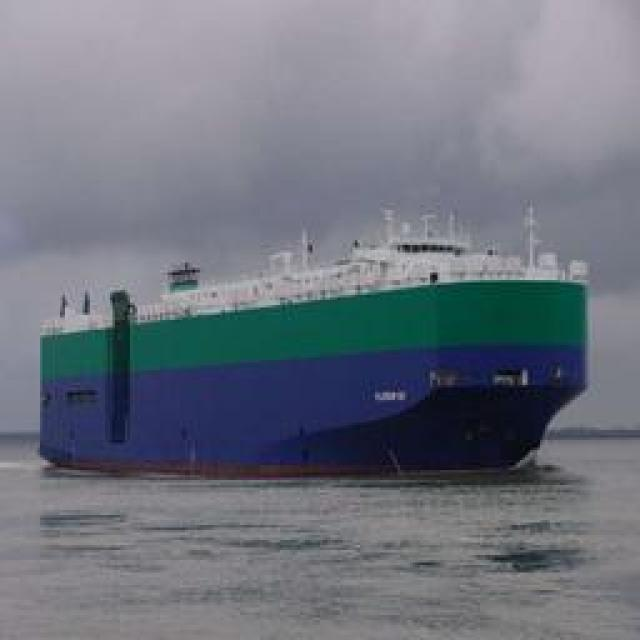CIV_Ship: (1, 266, 589, 474)
